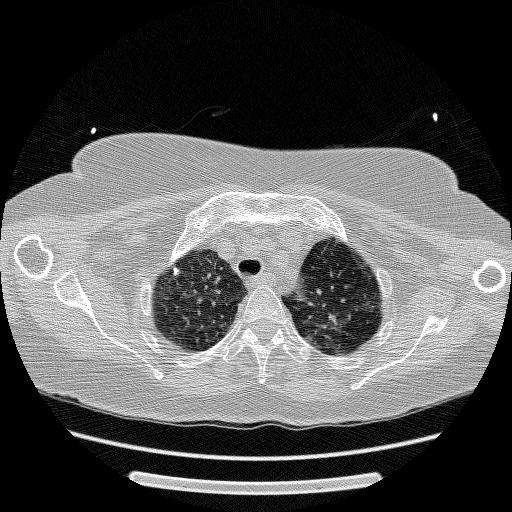nodule: (170, 266, 181, 277)
